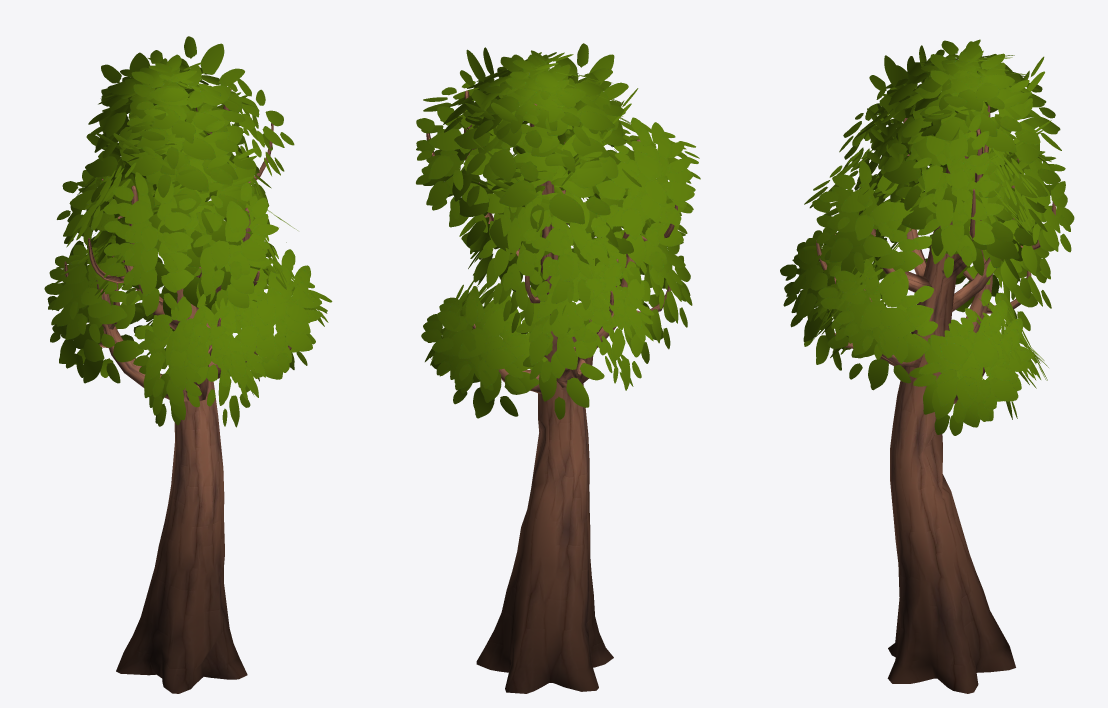
File: commontree_1_lod2.glb
The picture shows the model from 3 angles, left to right: view 1: azimuth 30°, elevation 25°; view 2: azimuth 150°, elevation 25°; view 3: azimuth 270°, elevation 25°; orthographic projection. The views are drawn at different scales.
Visible parts, largest first — view 1: CommonTree_1; view 2: CommonTree_1; view 3: CommonTree_1.
Part boxes in pixels (box(x1,y1,x2,y2)): CommonTree_1: box(44, 36, 332, 693); CommonTree_1: box(416, 43, 700, 693); CommonTree_1: box(780, 39, 1074, 693).
Size of the model in its own units: 3.18 by 7.12 by 3.51.
Materials: 2 (2 with a texture image).
